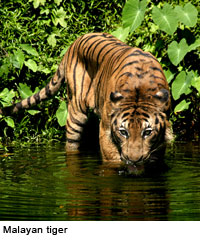Tigre: (50, 28, 178, 170)
